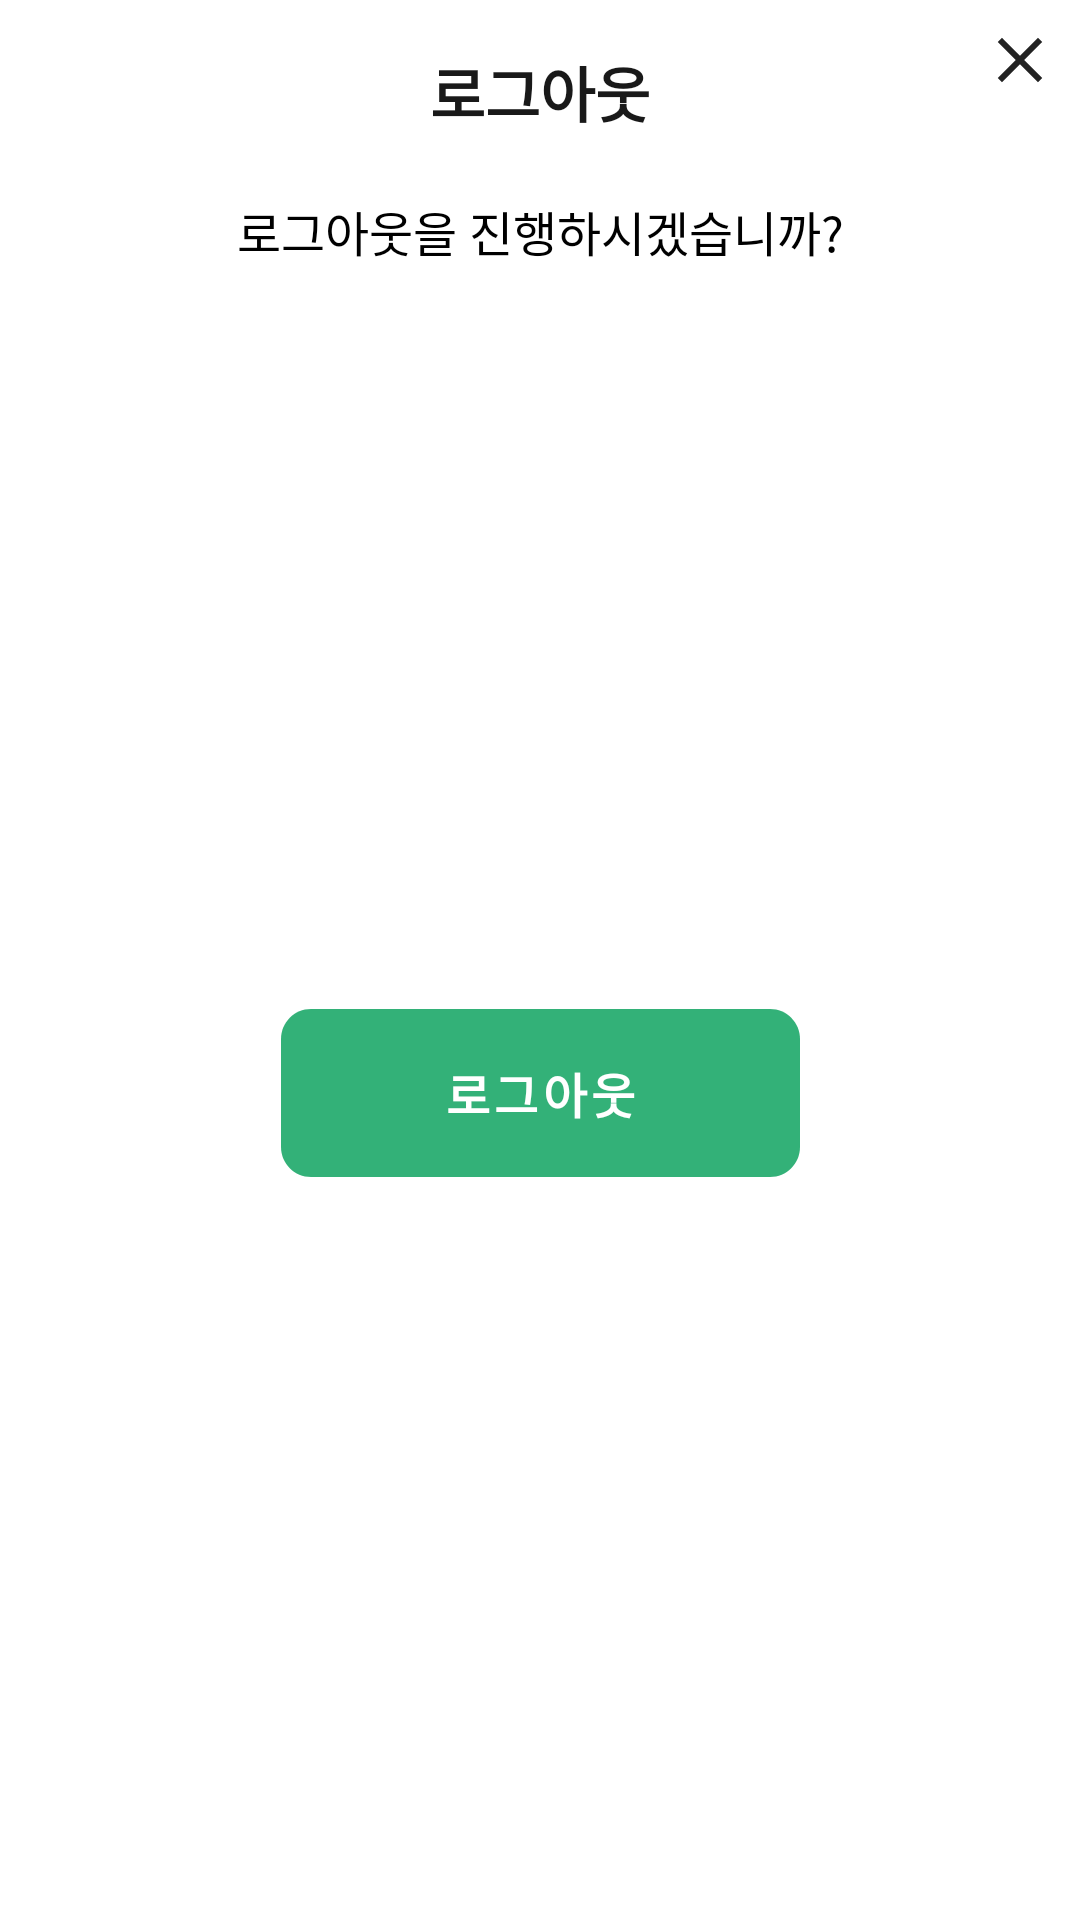

Icons on this 1080w x 1920h Android screen, each with the point to tap as point (x, y):
all close: point (1020, 60)
